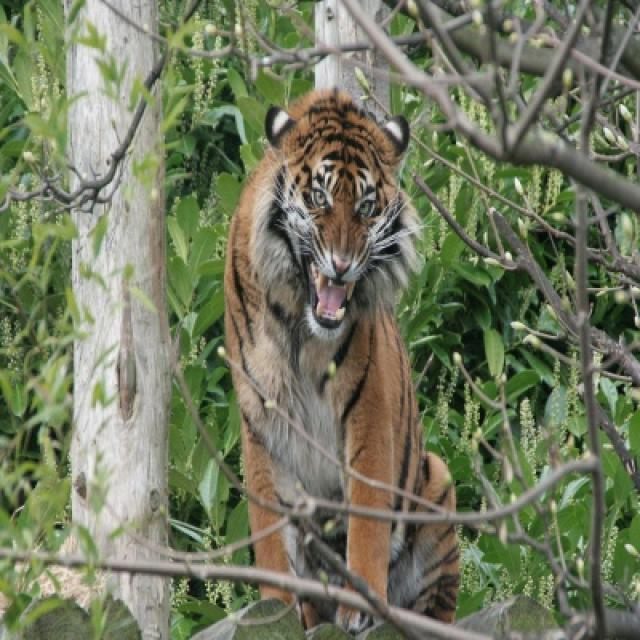Tiger: (223, 92, 468, 634)
